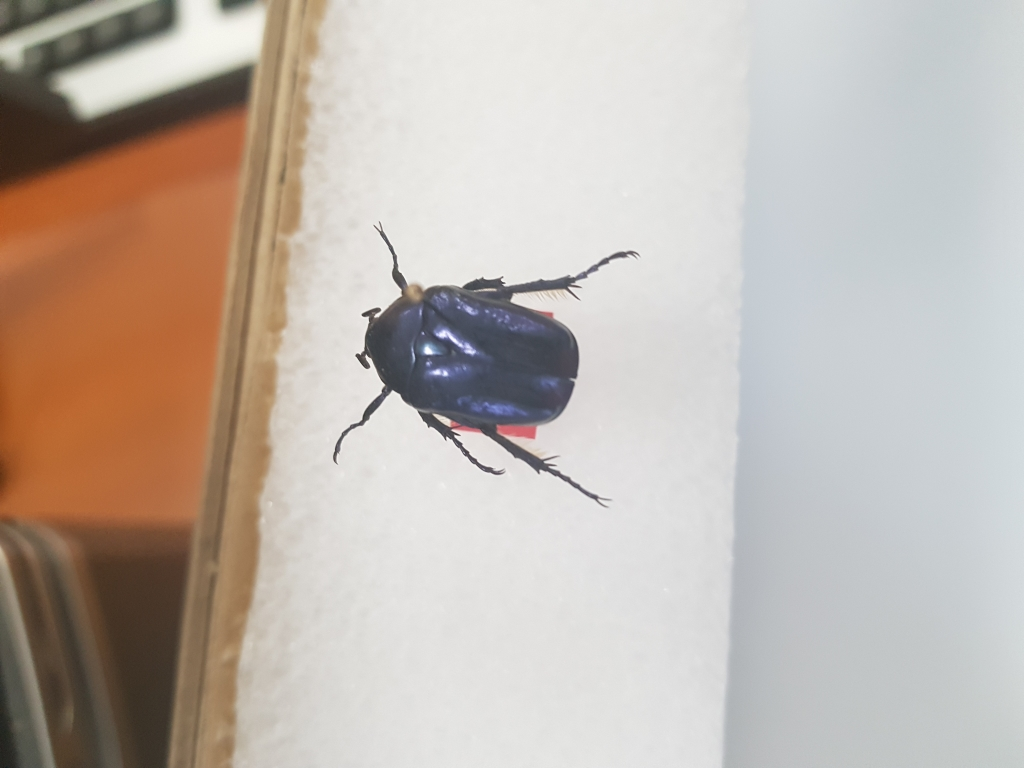Protaetia_besucheti: (323, 207, 653, 528)
